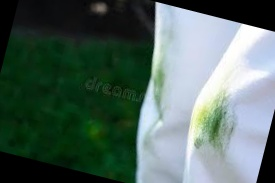earth: (189, 92, 235, 148), (145, 61, 171, 105)
